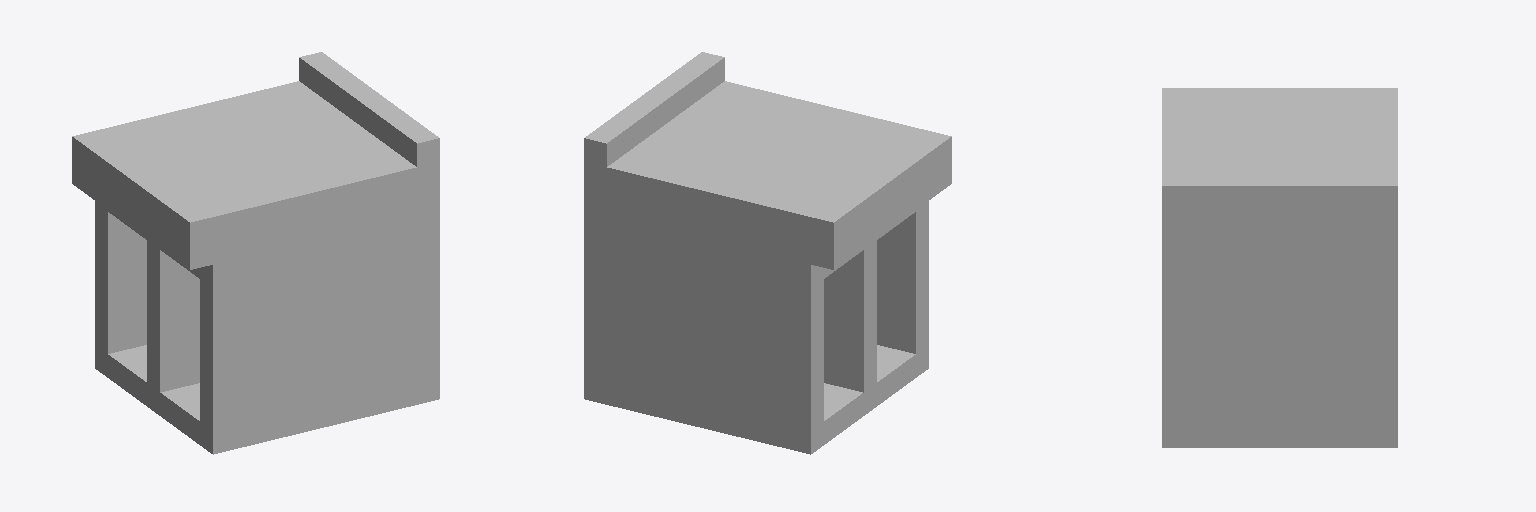
The model's file is kitchen_stand 2.obj.
3 views of the same model, side by side, from view 1: azimuth 30°, elevation 25°; view 2: azimuth 150°, elevation 25°; view 3: azimuth 270°, elevation 25° (orthographic).
Parts seen in each view (by area): view 1: kitchen_stand 2; view 2: kitchen_stand 2; view 3: kitchen_stand 2.
Boxes of the visible parts, <box> form: kitchen_stand 2: <box>72,52,439,454</box>; kitchen_stand 2: <box>584,52,951,454</box>; kitchen_stand 2: <box>1162,88,1397,447</box>.
Size of the model in its own units: 11 by 11 by 9.